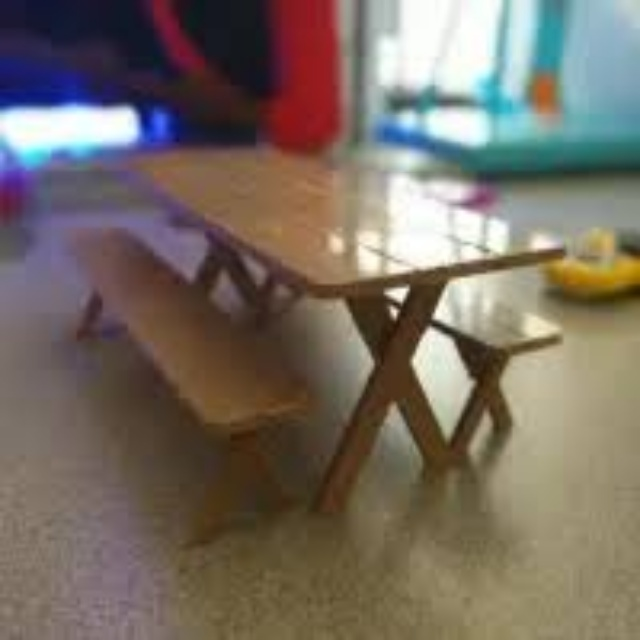obstacle: (38, 121, 573, 580)
